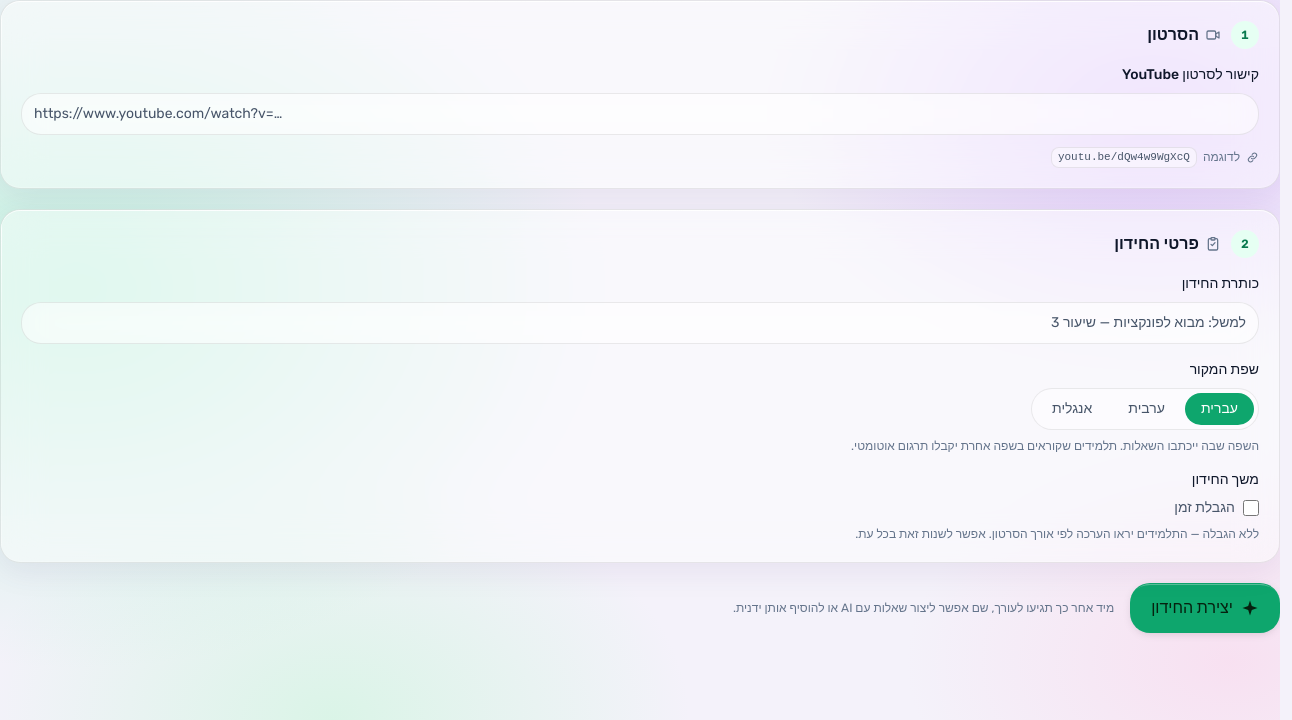
Test case: NewQuizForm › refuses a link it cannot recognise
Type "https://example.com/not-a-video" into the field labelled "קישור לסרטון YouTube".
click(640, 114); type("https://example.com/not-a-video")  # box 21,93 -> 1259,135
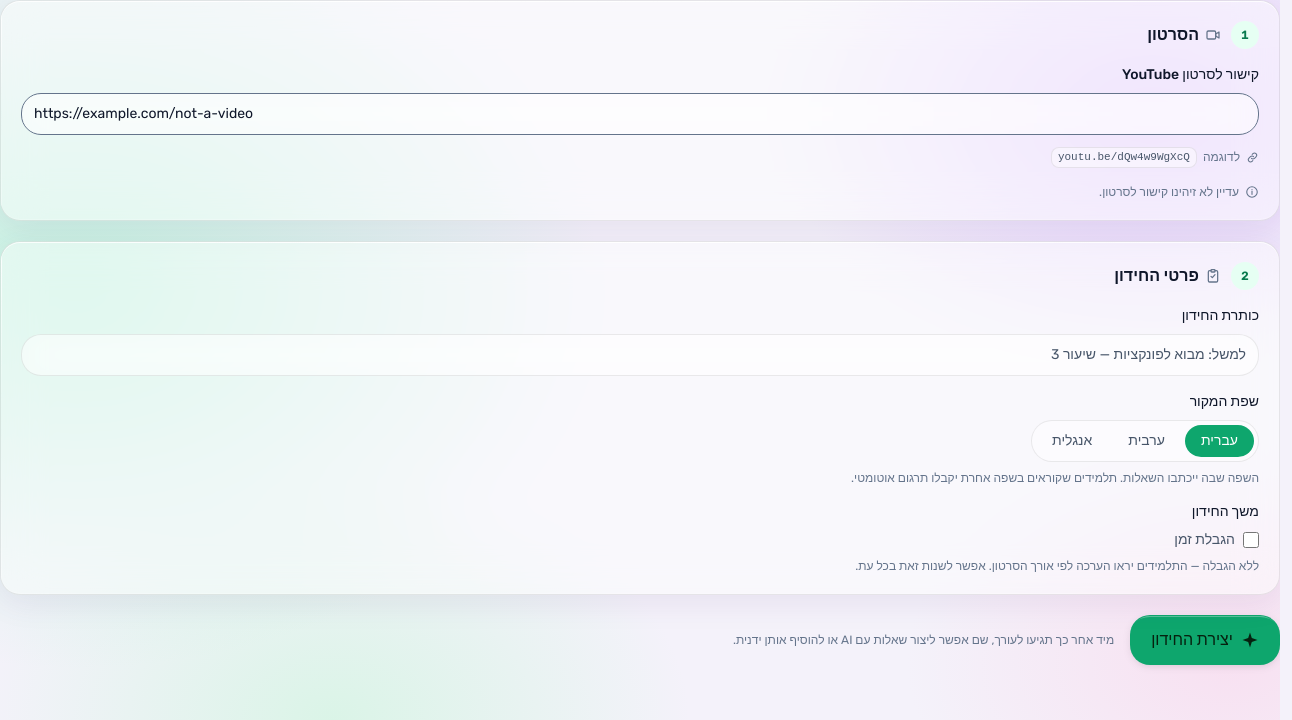
Type "מבוא" into the field labelled "כותרת החידון".
click(640, 355); type("מבוא")  # box 21,334 -> 1259,376
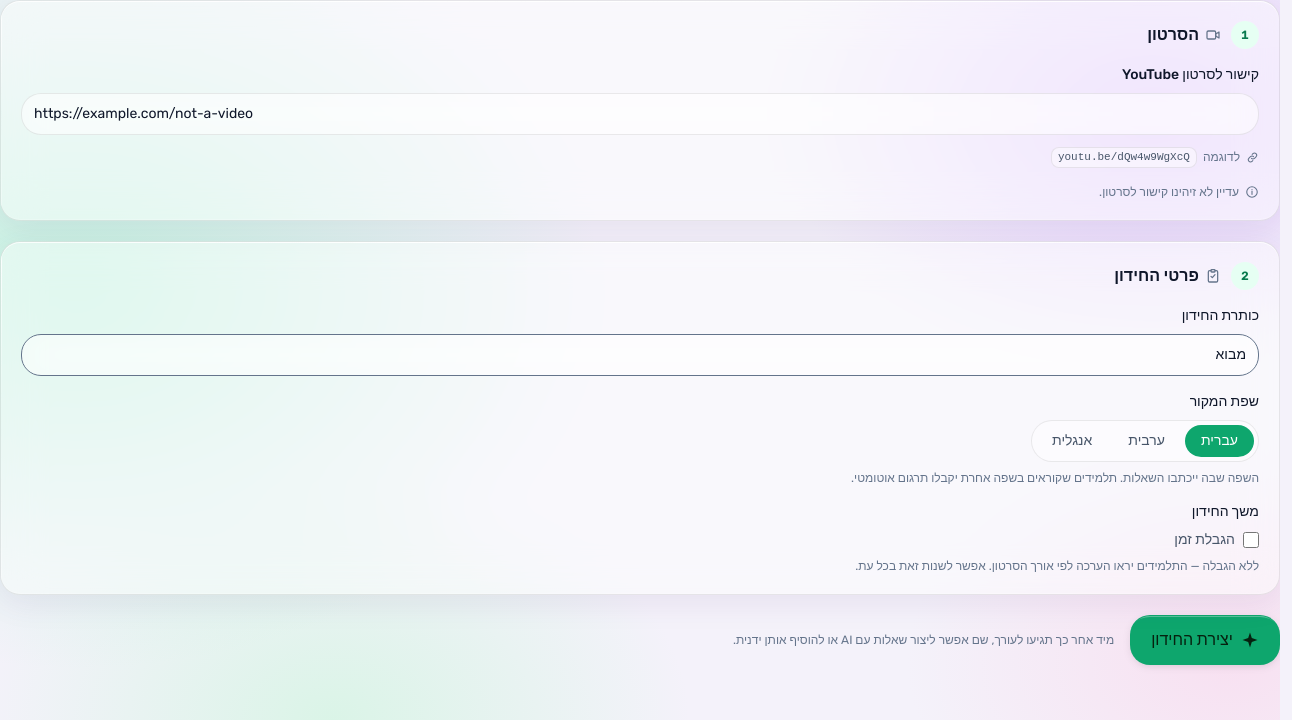
Click the button "יצירת החידון".
click(1205, 640)  # box 1130,615 -> 1280,665
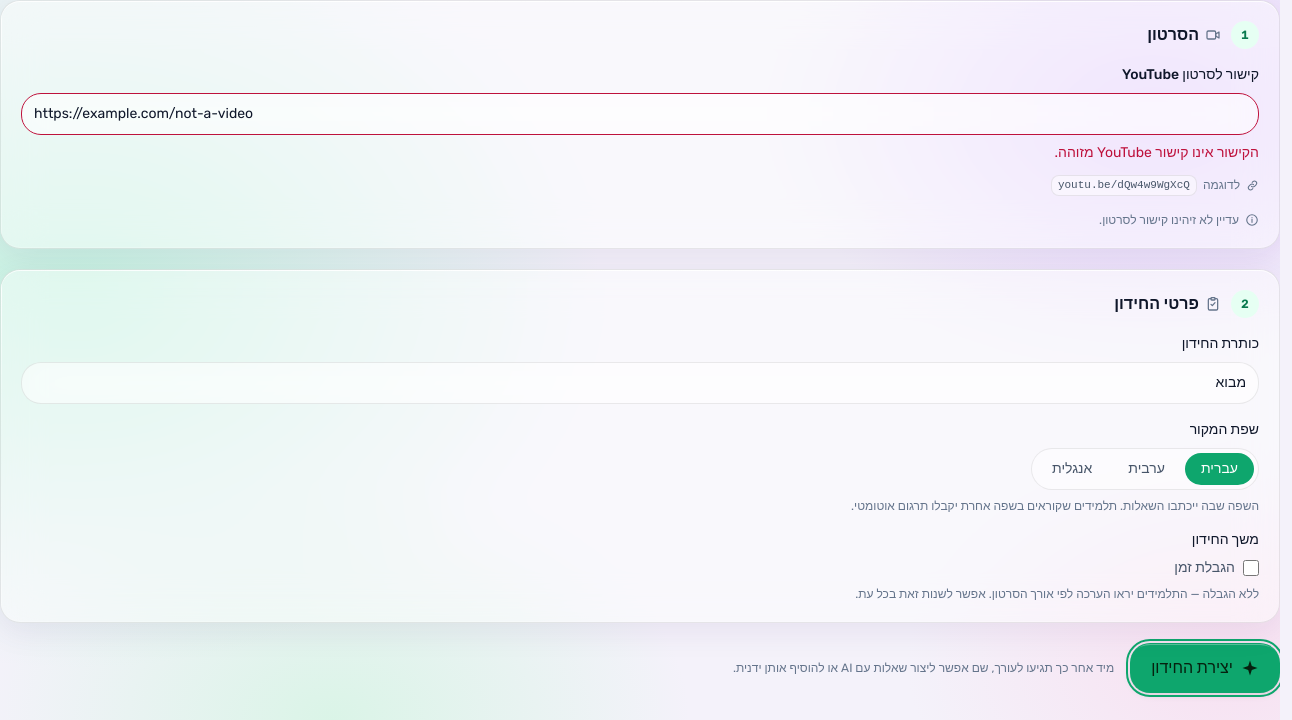
Result: the text "הקישור אינו קישור YouTube מזוהה." is shown at 1055,144 -> 1259,161
